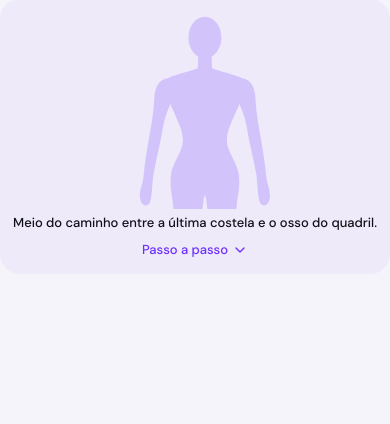
it: como medir (desenho animado) › passo a passo abre e fecha
Click the button "Passo a passo": (195, 250) [142,234,248,266]
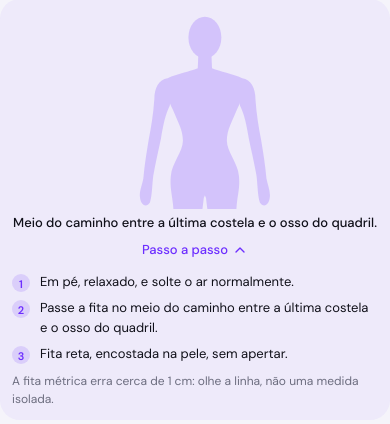
Now the button "Passo a passo" is expanded
Now the text "Em pé, relaxado, e solte o ar normalmente." is shown, box [40,272,294,292]
Now the text "Passe a fita no meio do caminho entre a última costela e o osso do quadril." is shown, box [40,298,378,338]
Click the button "Passo a passo": (195, 250) [142,234,248,266]
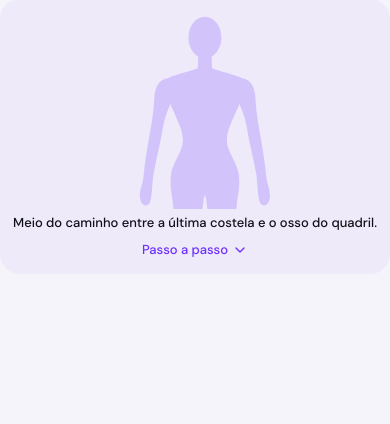
Now the button "Passo a passo" is collapsed, box [142,234,248,266]
